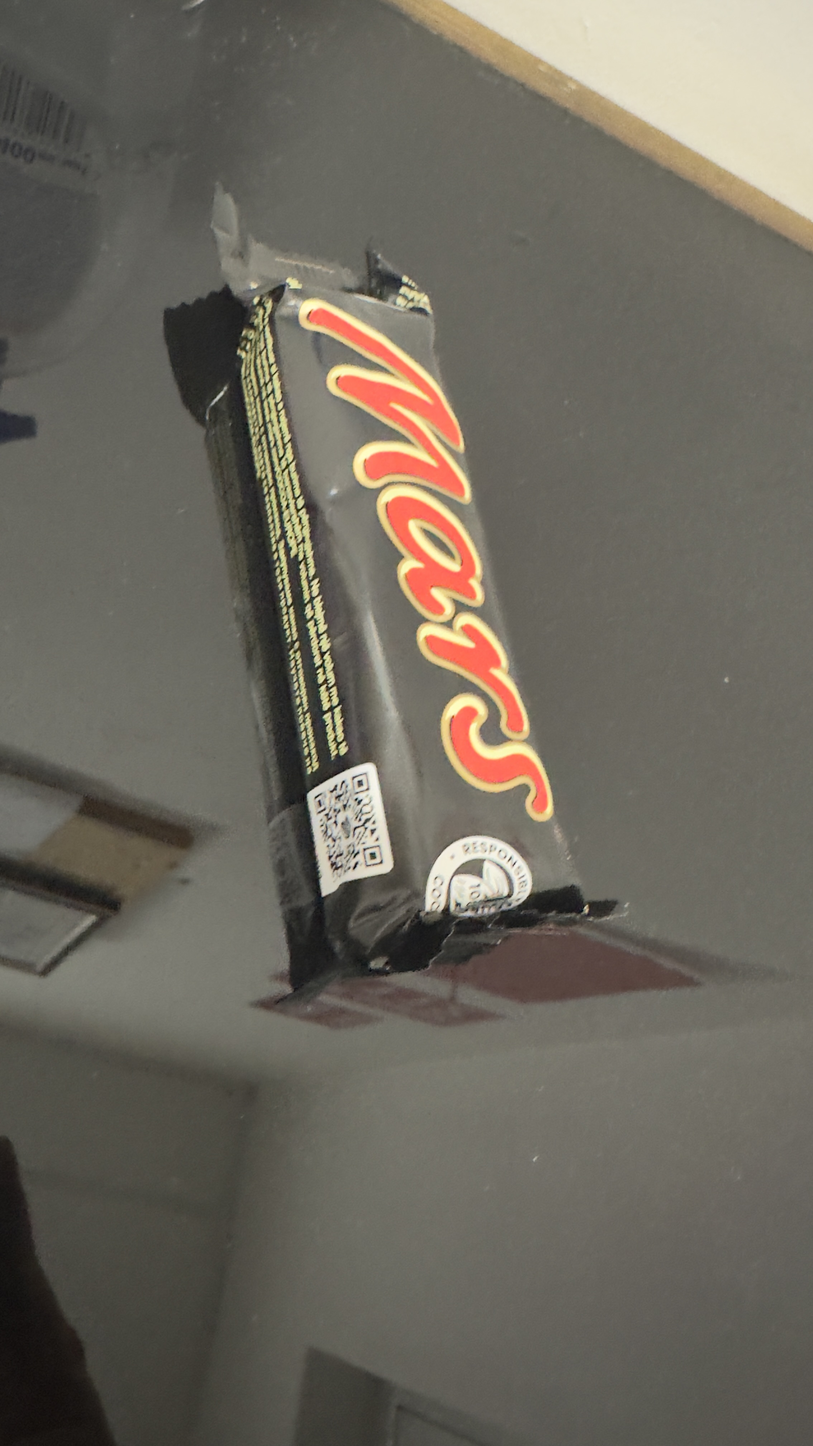MARS: (207, 244, 472, 986)
